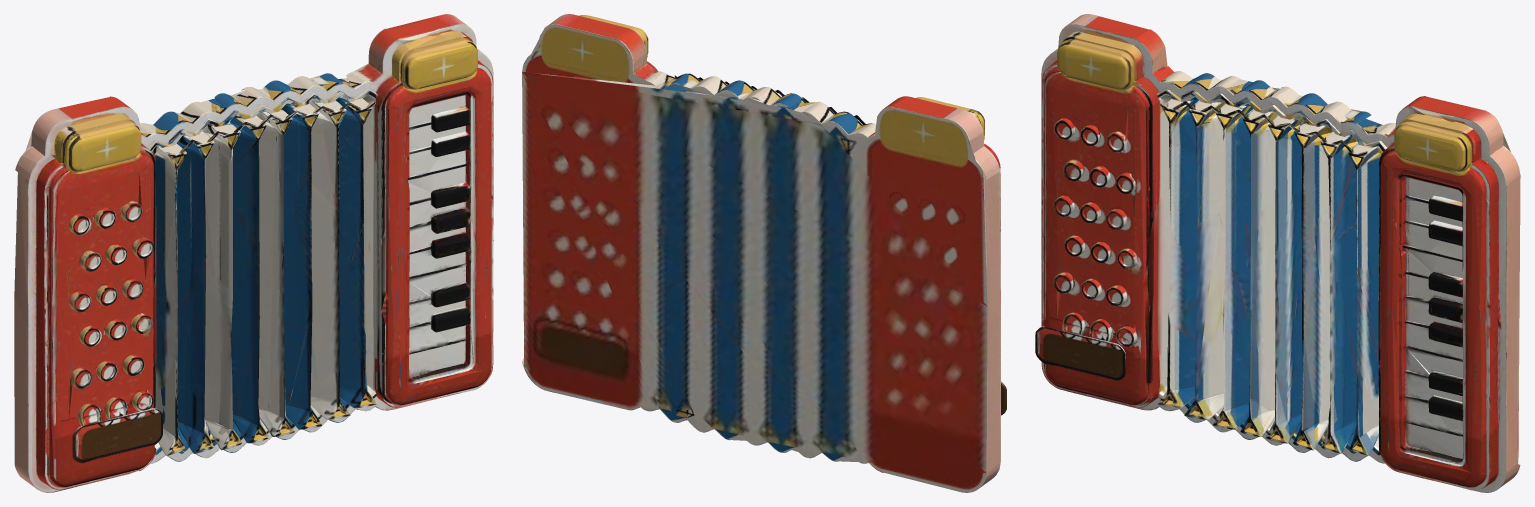
File: acordeon.glb
3 views of the same model, side by side, from view 1: azimuth 30°, elevation 25°; view 2: azimuth 150°, elevation 25°; view 3: azimuth 330°, elevation 25° (orthographic).
Bounding box in the file's own units: 1.9 × 1.46 × 0.2832.
1 material, 1 textured.
